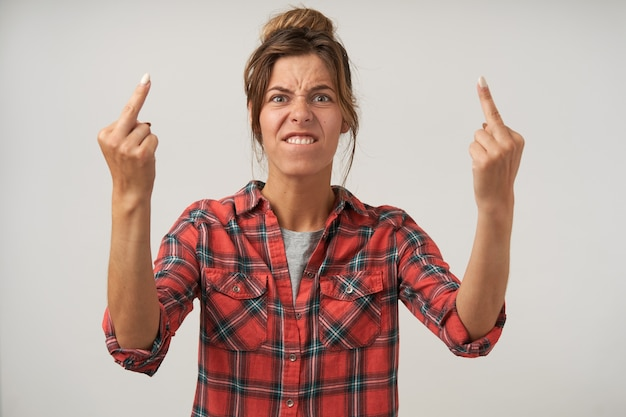insulting_gesture: (97, 71, 161, 191), (468, 74, 528, 197)
